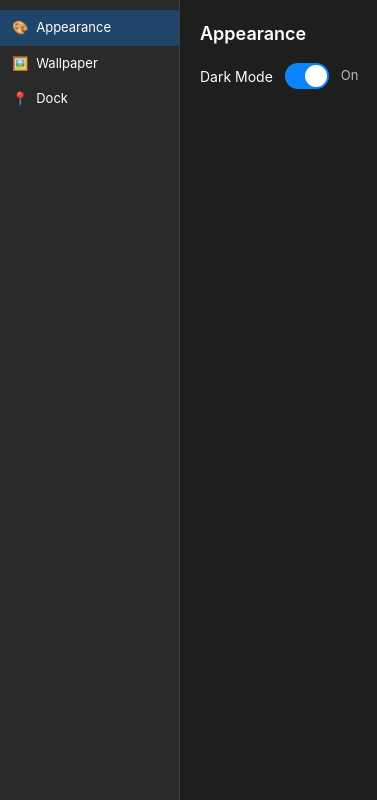
Test: SystemSettings › toggles dark mode off and on
Expected: the text with test id "dark-mode-label" reads "On", x1=341 y1=67 x2=358 y2=83
Click the button with test id "dark-mode-toggle" at (307,76), box x1=285 y1=63 x2=329 y2=89
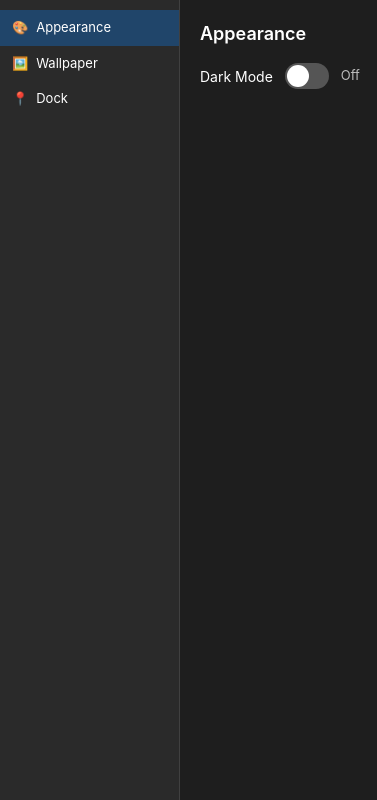
Expected: the text with test id "dark-mode-label" reads "Off", x1=341 y1=67 x2=360 y2=83
Click the button with test id "dark-mode-toggle" at (307,76), box x1=285 y1=63 x2=329 y2=89
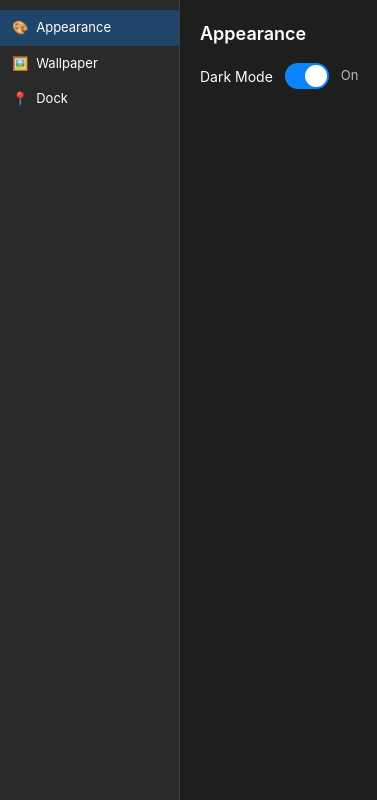
Expected: the text with test id "dark-mode-label" reads "On", x1=341 y1=67 x2=358 y2=83
